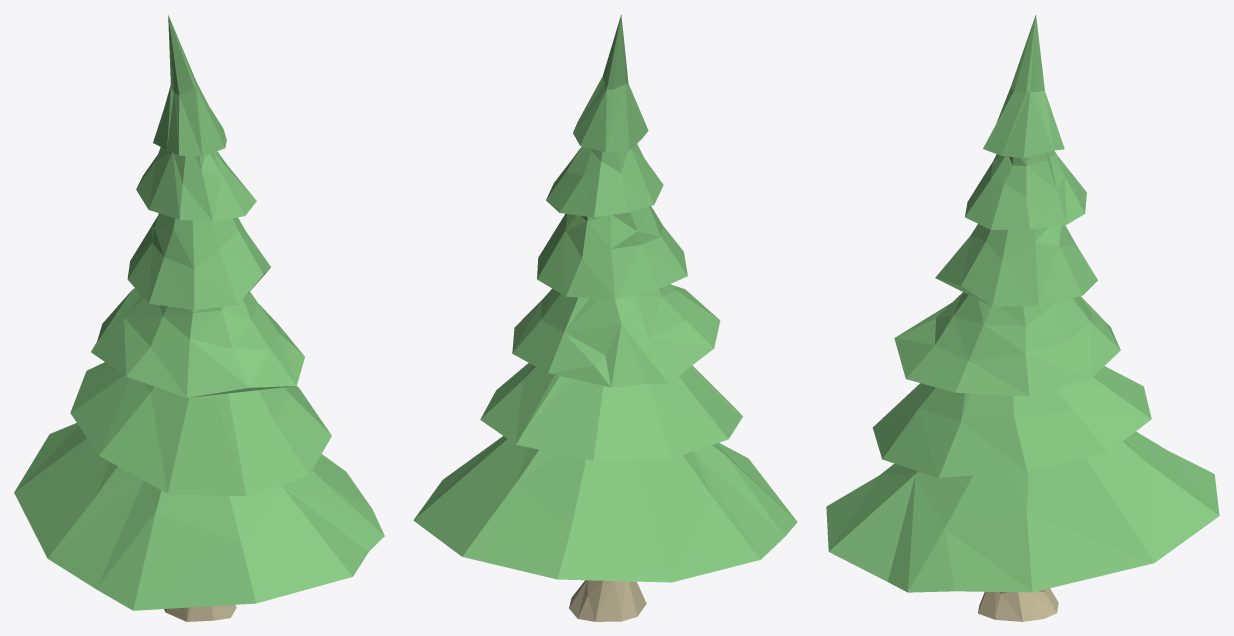
The model's file is LowPoly - FirTree A.FBX.
The picture shows the model from 3 angles, left to right: view 1: azimuth 30°, elevation 25°; view 2: azimuth 150°, elevation 25°; view 3: azimuth 270°, elevation 25°; orthographic projection. The views are drawn at different scales.
Visible parts, largest first — view 1: LowPolyFirTree_01; view 2: LowPolyFirTree_01; view 3: LowPolyFirTree_01.
Part boxes in pixels (<box>): LowPolyFirTree_01: <box>14,15,384,621</box>; LowPolyFirTree_01: <box>413,15,797,621</box>; LowPolyFirTree_01: <box>826,15,1219,621</box>.
Bounding box in the file's own units: 1028 × 1906 × 1162.
